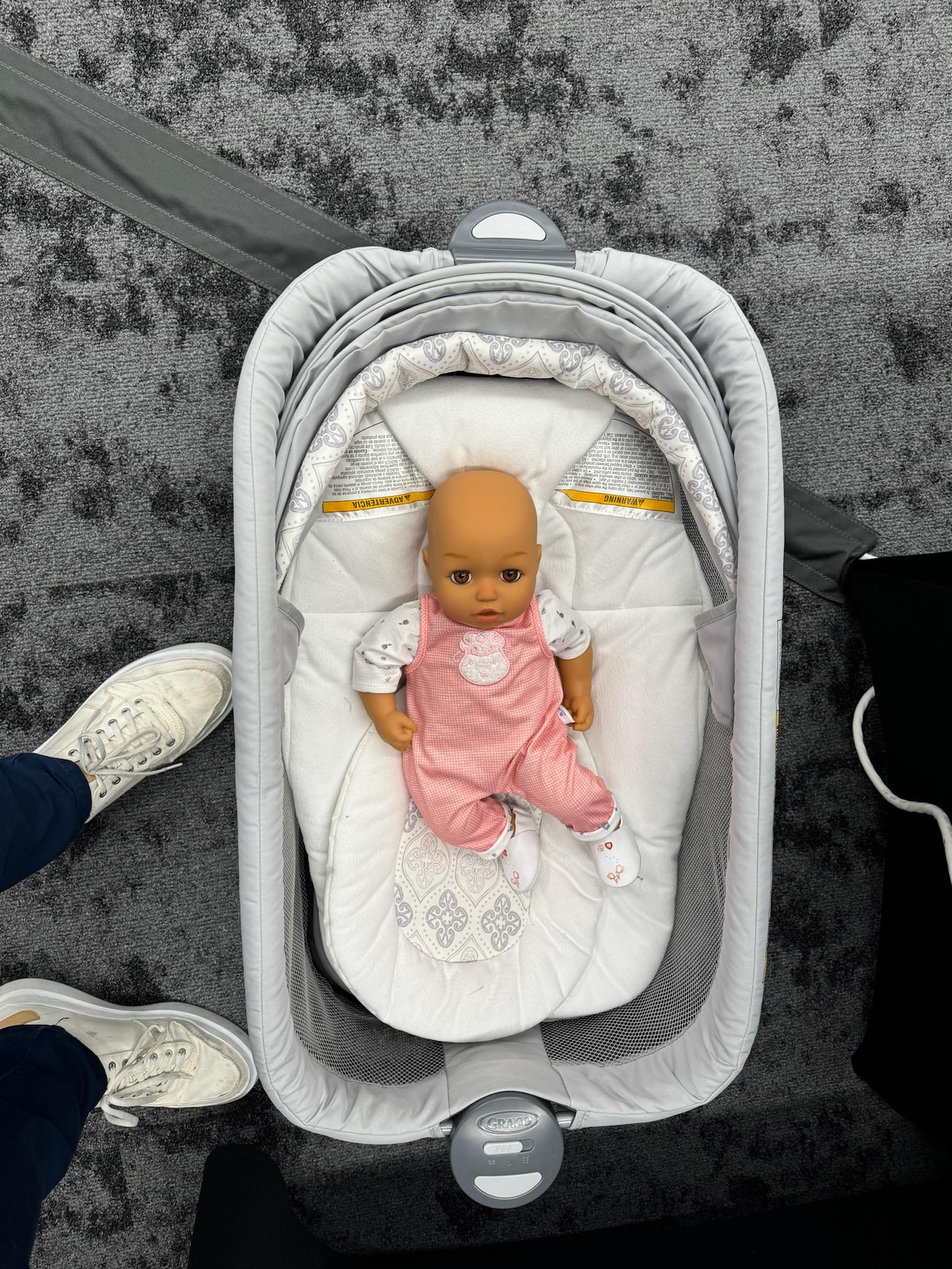baby: (341, 463, 652, 896)
